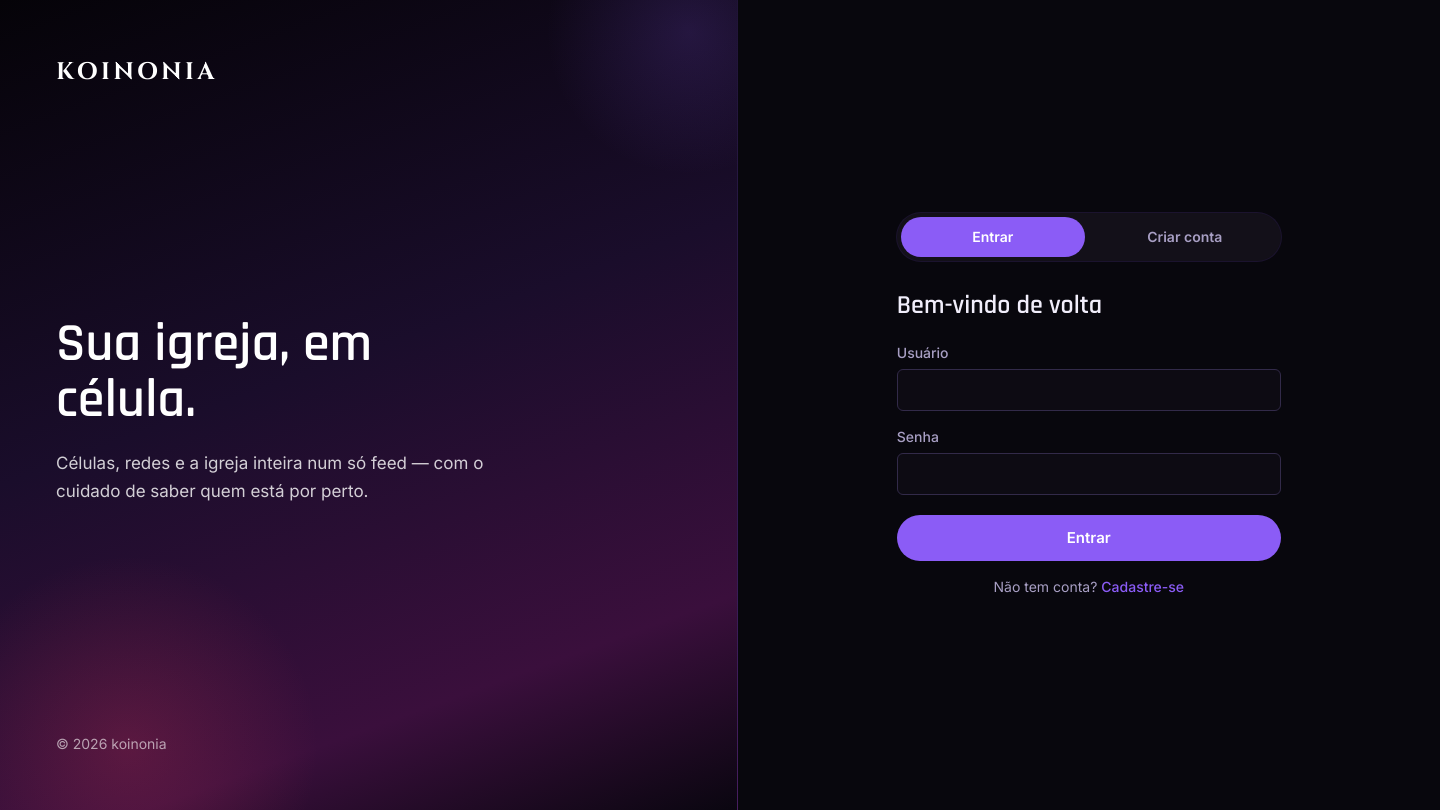
LoginPage › bloqueia submit com campos vazios (zod, antes de bater no backend)
Click the button "Entrar".
click(1089, 538)  # box [897,515,1281,561]
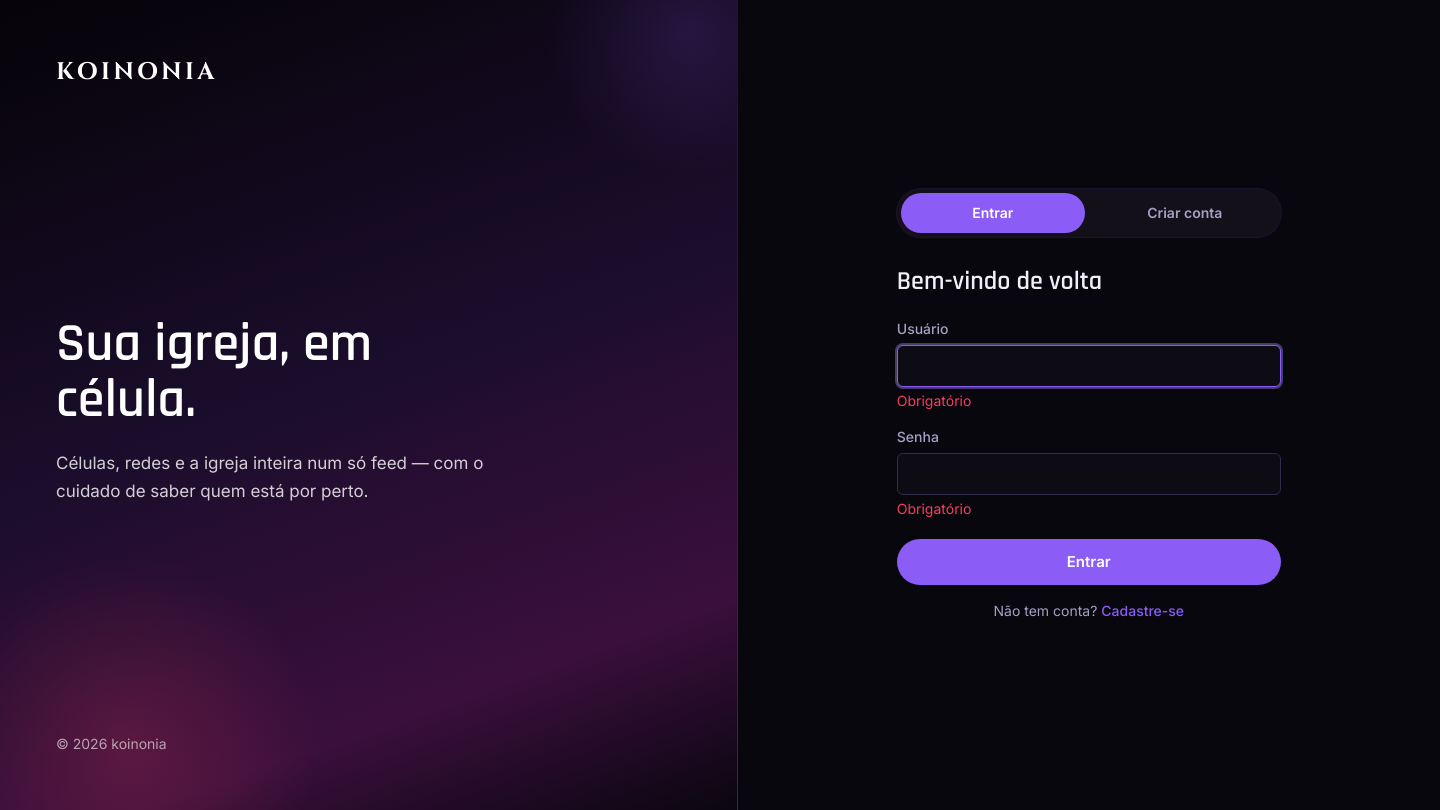
Check: the text "Obrigatório" is shown 2 times, box [897,392,971,409]; [897,500,971,517]
